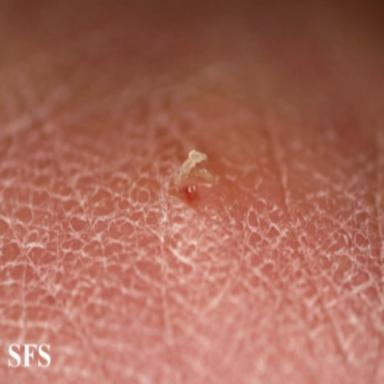Tungiasis: (174, 150, 214, 200)
